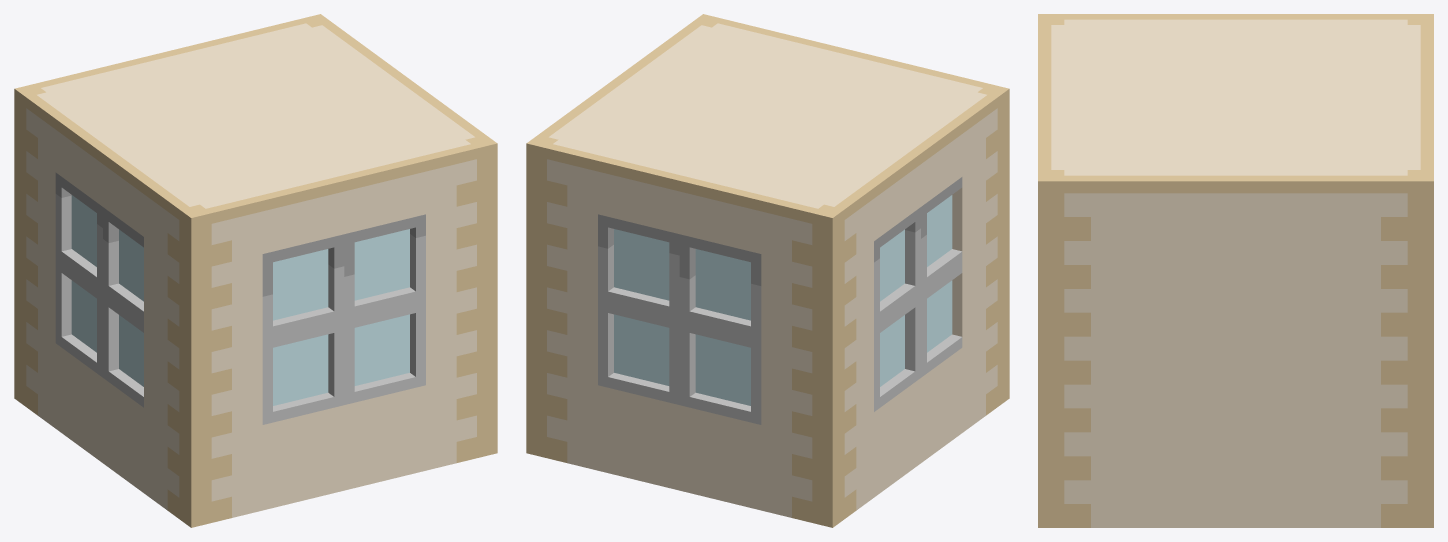
Rendered from hose_base_w_A.obj.
3 renders of one model, left to right at view 1: azimuth 30°, elevation 25°; view 2: azimuth 150°, elevation 25°; view 3: azimuth 270°, elevation 25°, orthographic. The views are drawn at different scales.
Size of the model in its own units: 3 by 2.9 by 3.
1 material, 1 textured.
